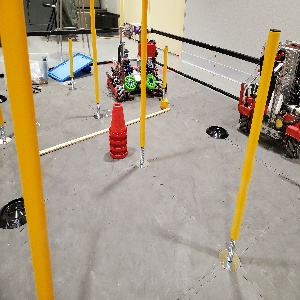Red_1: (198, 53, 220, 88)
Red_5: (106, 98, 128, 160)
